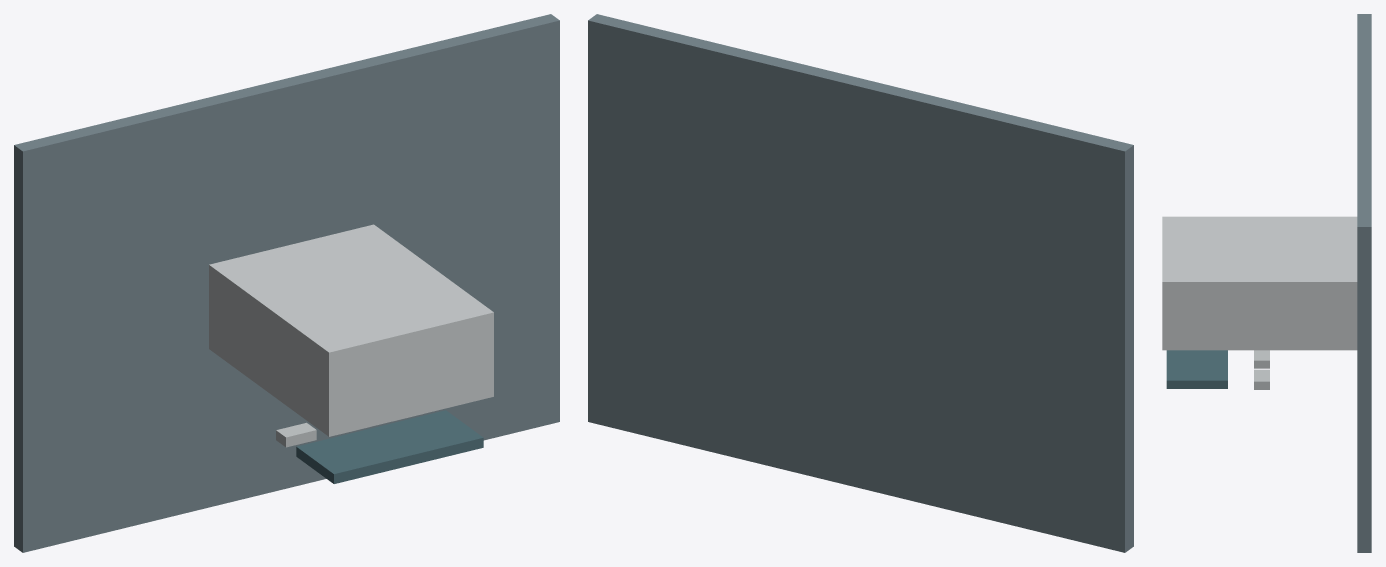
File: infusion-pump-high.glb
The picture shows the model from 3 angles, left to right: view 1: azimuth 30°, elevation 25°; view 2: azimuth 150°, elevation 25°; view 3: azimuth 270°, elevation 25°; orthographic projection. The views are drawn at different scales.
Visible parts, largest first — view 1: presentation_base_detail, pump_body, pump_display_bezel_detail, pump_softkey_detail_1; view 2: presentation_base_detail; view 3: pump_body, presentation_base_detail, pump_display_bezel_detail, pump_softkey_detail_3, pump_softkey_detail_2.
Part boxes in pixels (x1,y1,x2,y2): presentation_base_detail: (14, 14, 559, 552); pump_body: (209, 224, 493, 436); pump_display_bezel_detail: (296, 410, 483, 483); pump_softkey_detail_1: (276, 422, 316, 447); presentation_base_detail: (588, 14, 1133, 552); pump_body: (1162, 216, 1357, 350); presentation_base_detail: (1357, 14, 1371, 552); pump_display_bezel_detail: (1166, 350, 1227, 388); pump_softkey_detail_3: (1254, 369, 1269, 389); pump_softkey_detail_2: (1254, 350, 1269, 368).
Bounding box in the file's own units: 2.8 × 2 × 1.16.
